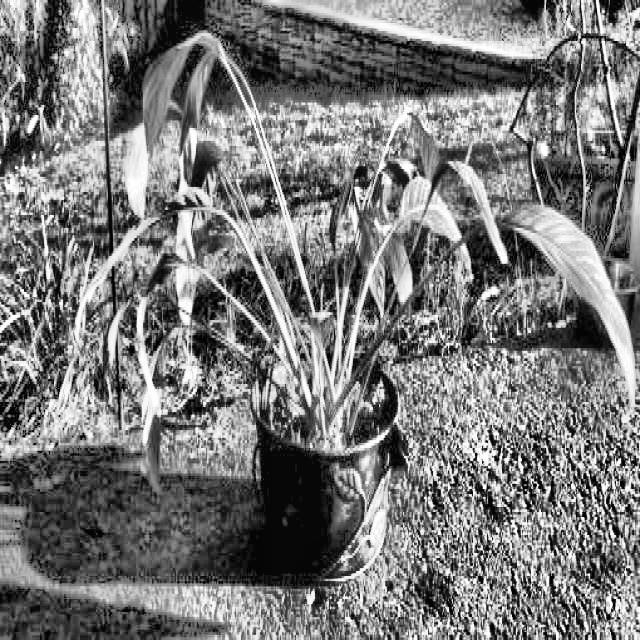plants: (62, 15, 638, 581)
